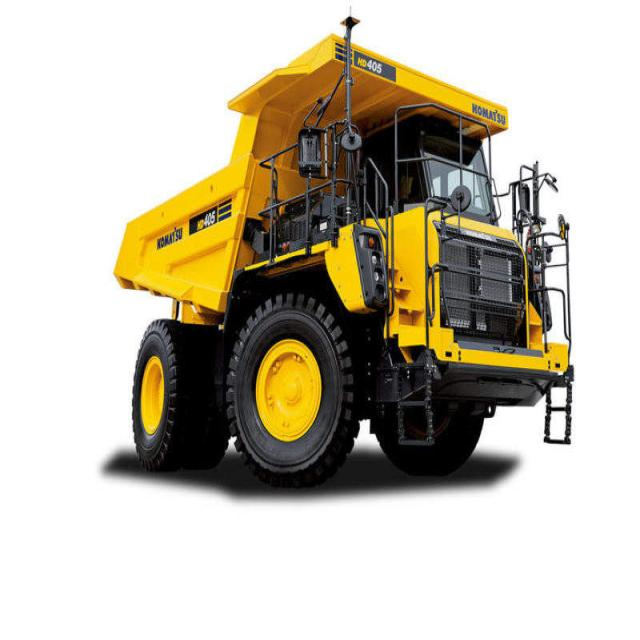dump_truck: (116, 17, 574, 486)
